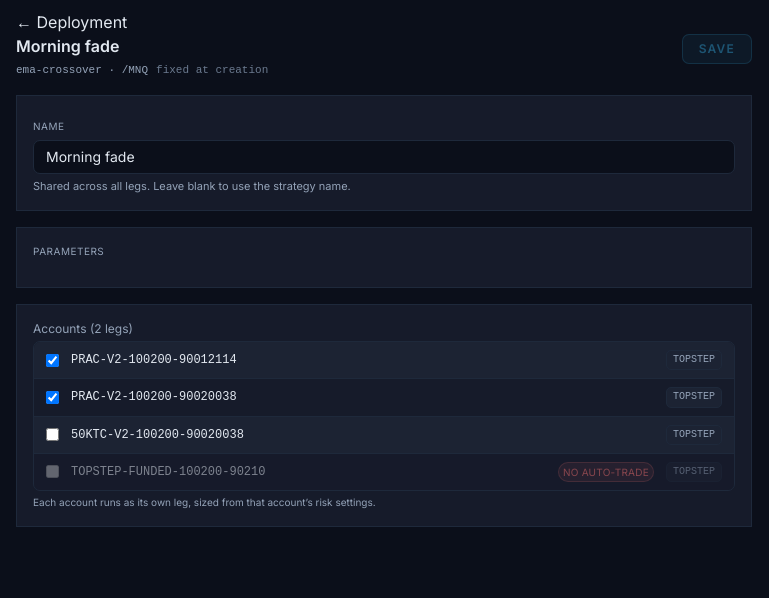
Test: DeploymentEditor — the partialConflict 409 › surfaces a leg-removal refusal verbatim, because it names the position
Click the checkbox labelled "PRAC-V2-100200-90020038 TOPSTEP" at (52, 397), box [46,391,59,404]
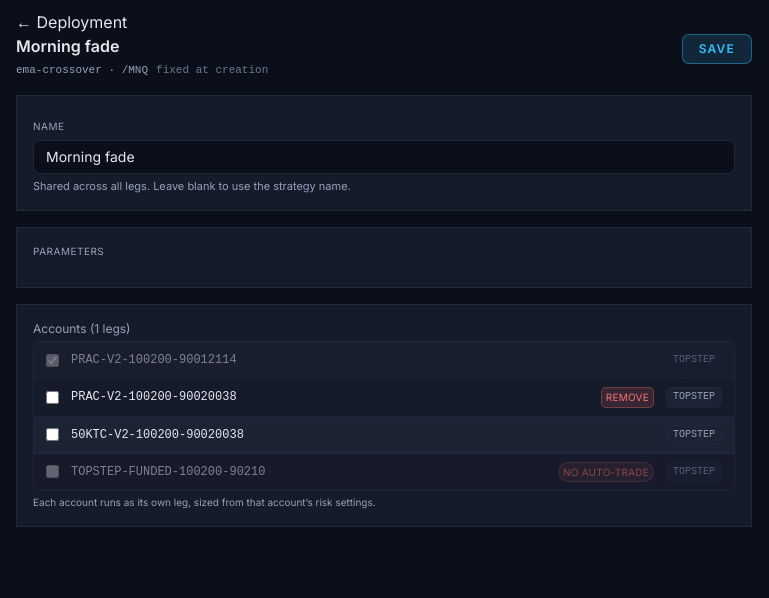
Click the button "Save" at (717, 49), box [682,34,752,64]
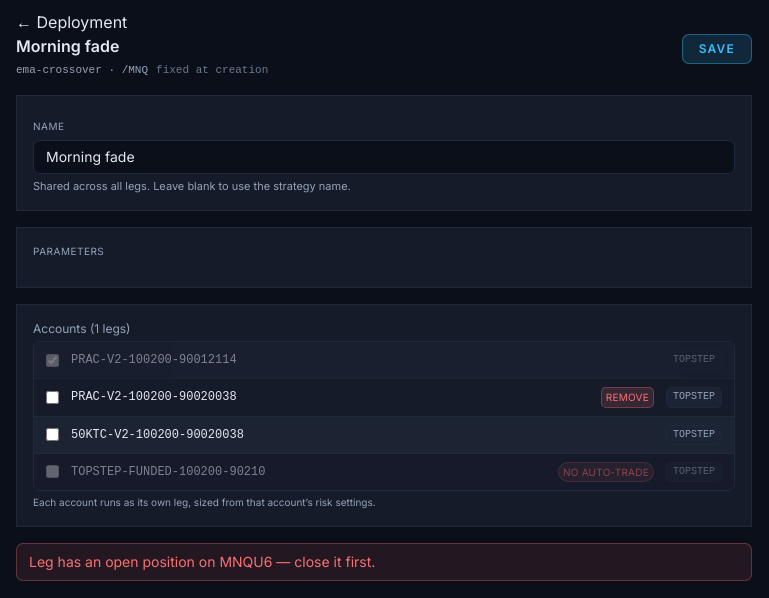
Expected: the text "open position on MNQU6" is shown, [29,553,375,570]
